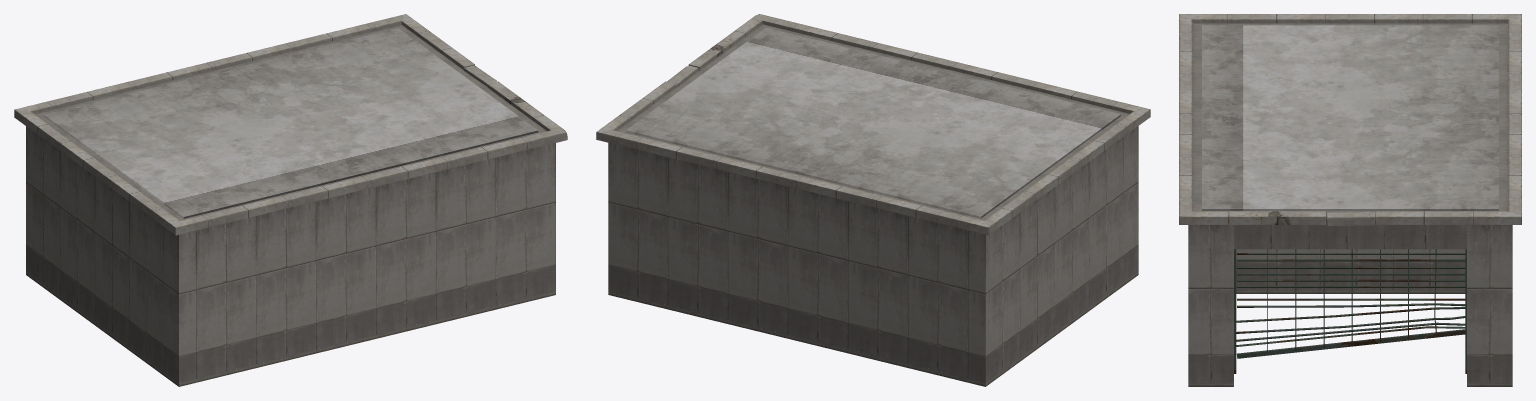
File: House_06.fbx
The picture shows the model from 3 angles, left to right: view 1: azimuth 30°, elevation 25°; view 2: azimuth 150°, elevation 25°; view 3: azimuth 270°, elevation 25°; orthographic projection. The views are drawn at different scales.
Parts seen in each view (by area): view 1: Hotel_STR_House_06; view 2: Hotel_STR_House_06; view 3: Hotel_STR_House_06.
Part boxes in pixels (x1=…): Hotel_STR_House_06: x1=14, y1=14, x2=567, y2=386; Hotel_STR_House_06: x1=596, y1=14, x2=1150, y2=386; Hotel_STR_House_06: x1=1179, y1=14, x2=1521, y2=386.
Bounding box in the file's own units: 1051 × 420 × 750.
2 materials, 2 textured.
